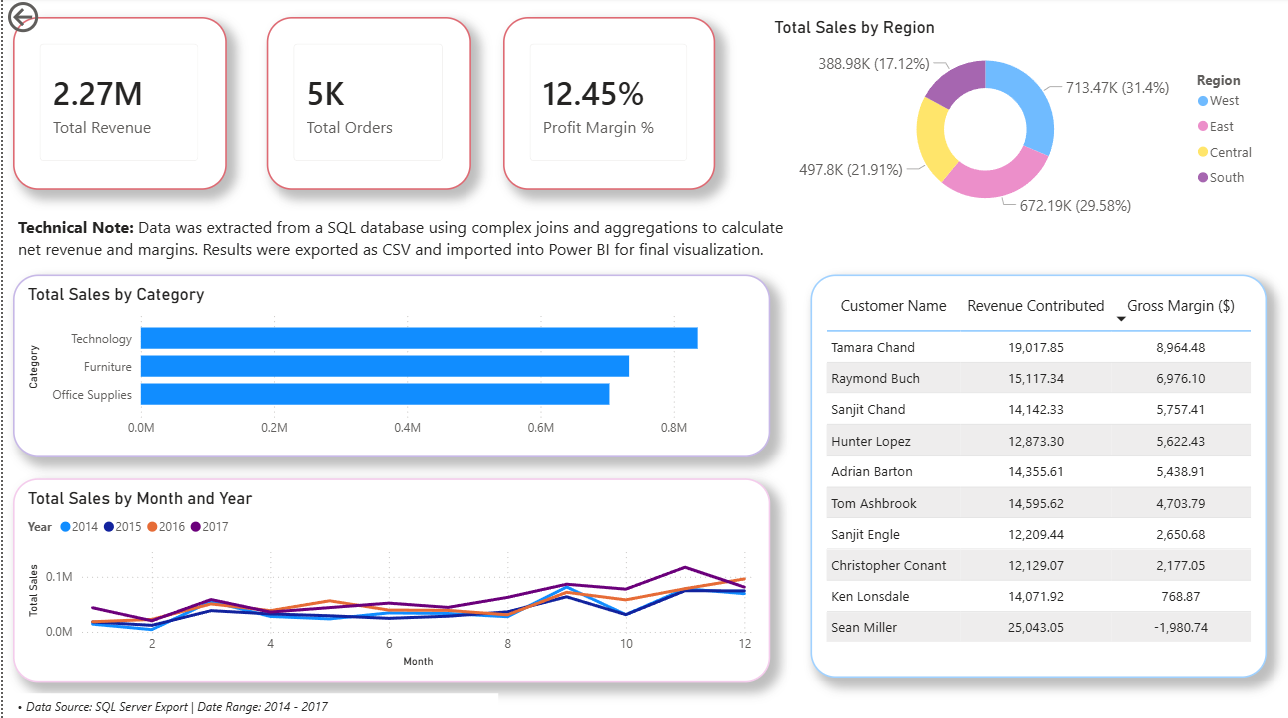

What the dashboard file says about the page in this screenshot:
{"tool":"powerbi","page":{"name":"Page 1","canvas":[1280,720],"ordinal":0},"visuals":[{"type":"cardVisual","fields":{"Data":["Key Metrics.Total Revenue"]},"box":[9.6,20.5,212.9,172],"z":0},{"type":"cardVisual","fields":{"Data":["Key Metrics.Total Orders"]},"box":[262.1,20.5,203.4,172],"z":1000},{"type":"cardVisual","fields":{"Data":["Key Metrics.Profit Margin Percent"]},"box":[498.2,20.5,211.6,172],"z":2000},{"type":"textbox","box":[9.6,212.9,783.5,61.4],"z":3000},{"type":"clusteredBarChart","fields":{"Category":["portfolio_categories_result.Category"],"Y":["portfolio_categories_result.revenue"]},"box":[9.6,275.7,753.4,181.5],"z":4000},{"type":"donutChart","fields":{"Category":["portfolio_region_result.Region"],"Y":["portfolio_region_result.revenue"]},"box":[763,20.5,495.5,204.7],"z":5000},{"type":"lineChart","fields":{"Category":["portfolio_order_date_result.month"],"Y":["portfolio_order_date_result.revenue"],"Series":["portfolio_order_date_result.year"]},"box":[9.6,479.1,753.4,203.4],"z":6000},{"type":"tableEx","fields":{"Values":["portfolio_unique_customer_result.Customer Name","portfolio_unique_customer_result.lifetime_value","portfolio_unique_customer_result.total_profit"]},"box":[803.9,275.7,454.5,401.3],"z":7000},{"type":"actionButton","box":[0,0,100,40],"z":8000},{"type":"textbox","box":[0,693.4,492.7,27.3],"z":9000}]}

Visuals, with their boxes in screenshot pixels (x1, y1, x2, y2), scaled from the page's 1280x720 canvas onto the 1288x718 screenshot:
cardVisual - Key Metrics.Total Revenue: <bbox>10, 20, 224, 192</bbox>
cardVisual - Key Metrics.Total Orders: <bbox>264, 20, 468, 192</bbox>
cardVisual - Key Metrics.Profit Margin Percent: <bbox>501, 20, 714, 192</bbox>
textbox: <bbox>10, 212, 798, 274</bbox>
clusteredBarChart - portfolio_categories_result.Category x portfolio_categories_result.revenue: <bbox>10, 275, 768, 456</bbox>
donutChart - portfolio_region_result.Region x portfolio_region_result.revenue: <bbox>768, 20, 1266, 225</bbox>
lineChart - portfolio_order_date_result.month x portfolio_order_date_result.revenue: <bbox>10, 478, 768, 681</bbox>
tableEx - portfolio_unique_customer_result.Customer Name x portfolio_unique_customer_result.lifetime_value: <bbox>809, 275, 1266, 675</bbox>
actionButton: <bbox>0, 0, 101, 40</bbox>
textbox: <bbox>0, 691, 496, 717</bbox>
